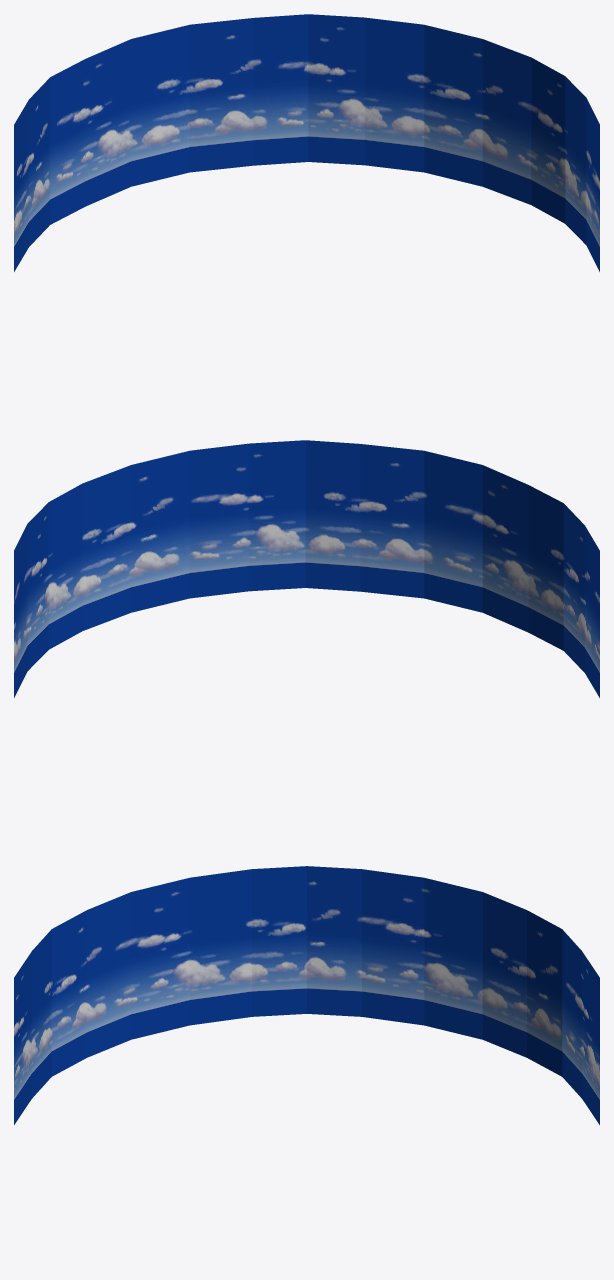
Rendered from vrcorn.glb.
3 renders of one model, top to bottom at view 1: azimuth 30°, elevation 25°; view 2: azimuth 150°, elevation 25°; view 3: azimuth 270°, elevation 25°, orthographic.
Parts seen in each view (by area): view 1: polygon0; view 2: polygon0; view 3: polygon0.
Boxes of the visible parts, x1,y1,x2,y2 form: polygon0: (14,14,599,271); polygon0: (14,440,599,697); polygon0: (14,866,599,1124).
Size of the model in its own units: 2692 by 736 by 2646.
Materials: 1 (1 with a texture image).
